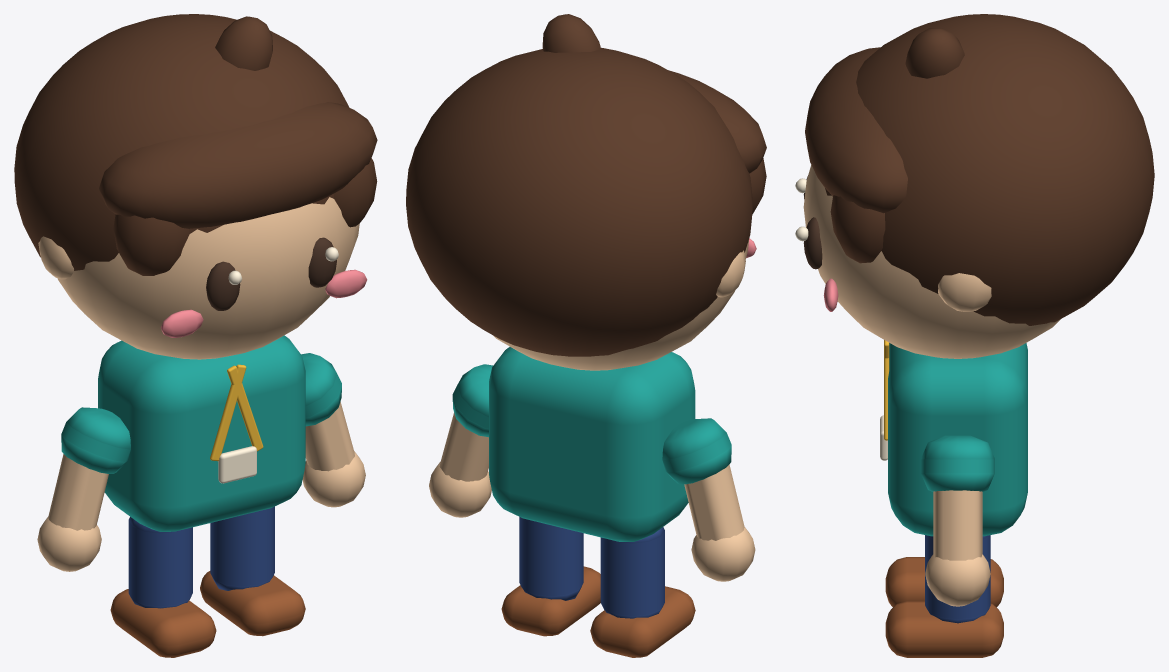
Rendered from crowd_student_a.glb.
3 views of the same model, side by side, from view 1: azimuth 30°, elevation 25°; view 2: azimuth 150°, elevation 25°; view 3: azimuth 270°, elevation 25° (orthographic). The views are drawn at different scales.
Visible parts, largest first — view 1: Hair.004, Torso.007, Head.008, Fringe.003, Leg-1.005, Leg1.005, Shoe-1.007, Shoe1.008, Sleeve-1.007, FringeSide-1.003, Arm-1.007, Hand-1.007 (+13 smaller); view 2: Hair.004, Torso.007, Leg-1.005, Leg1.005, Shoe-1.007, Sleeve-1.007, Shoe1.008, Head.008, Arm-1.007, Fringe.003, Hand-1.007, Arm1.007 (+5 smaller); view 3: Hair.004, Torso.007, Head.008, Fringe.003, Shoe1.008, Sleeve1.007, Arm1.007, FringeSide1.003, Hand1.007, Tuft.002, Shoe-1.007, Leg1.005 (+2 smaller).
Boxes of the visible parts, x1,y1,x2,y2 form: Hair.004: [14, 14, 349, 270]; Torso.007: [98, 335, 305, 531]; Head.008: [57, 197, 359, 359]; Fringe.003: [99, 102, 377, 228]; Leg-1.005: [128, 517, 192, 608]; Leg1.005: [210, 506, 274, 590]; Shoe-1.007: [110, 589, 216, 657]; Shoe1.008: [200, 571, 305, 636]; Sleeve-1.007: [61, 407, 130, 473]; FringeSide-1.003: [113, 214, 189, 275]; Arm-1.007: [48, 454, 108, 530]; Hand-1.007: [37, 517, 101, 571]; Hair.004: [406, 47, 752, 356]; Torso.007: [489, 347, 695, 541]; Leg-1.005: [600, 527, 664, 618]; Leg1.005: [519, 517, 583, 600]; Shoe-1.007: [590, 586, 695, 657]; Sleeve-1.007: [662, 418, 731, 484]; Shoe1.008: [501, 566, 600, 636]; Head.008: [493, 239, 749, 370]; Arm-1.007: [684, 464, 744, 540]; Fringe.003: [668, 70, 766, 173]; Hand-1.007: [691, 527, 755, 581]; Arm1.007: [439, 412, 488, 481]; Hair.004: [825, 14, 1154, 325]; Torso.007: [888, 343, 1027, 536]; Head.008: [803, 165, 1060, 358]; Fringe.003: [805, 47, 907, 213]; Shoe1.008: [885, 601, 1003, 657]; Sleeve1.007: [920, 435, 994, 491]; Arm1.007: [933, 490, 982, 560]; FringeSide1.003: [830, 195, 885, 263]; Hand1.007: [925, 554, 990, 606]; Tuft.002: [905, 28, 964, 78]; Shoe-1.007: [885, 557, 1003, 607]; Leg1.005: [925, 535, 990, 623].
Bounding box in the file's own units: 0.86 × 1.55 × 0.822.
